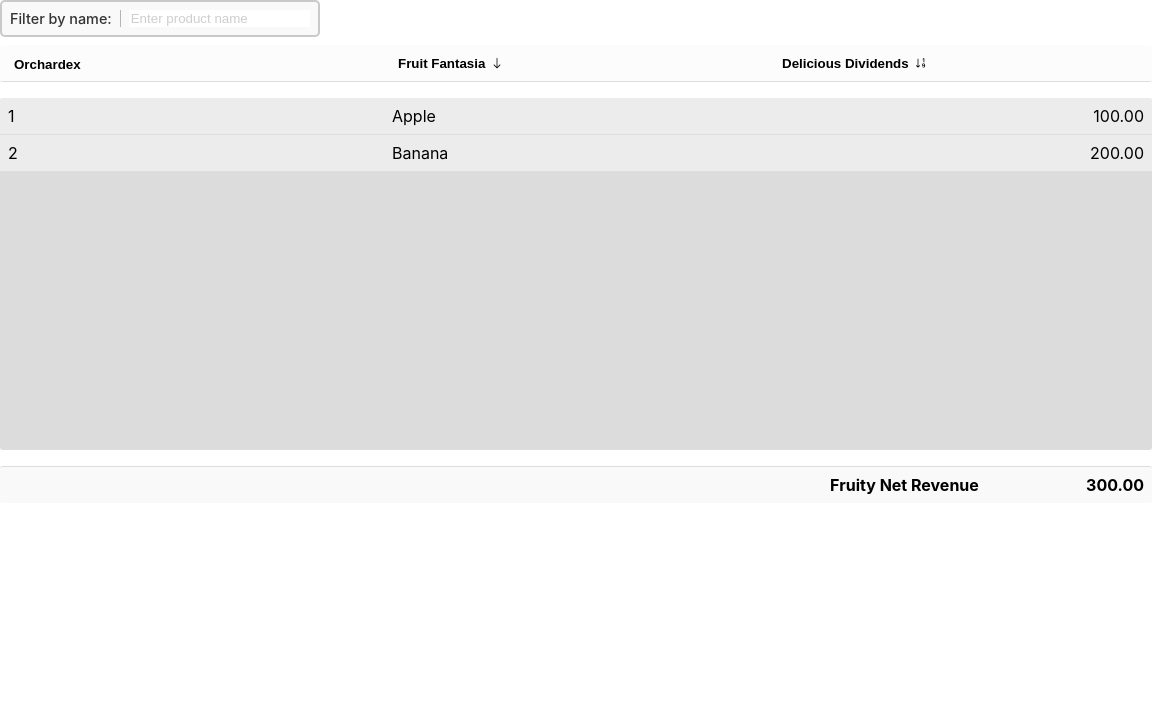
Test case: TableComp › filters data correctly
Type "Apple" into the field labelled "Filter by name:" at x=219, y=18, box [129,10,310,27]
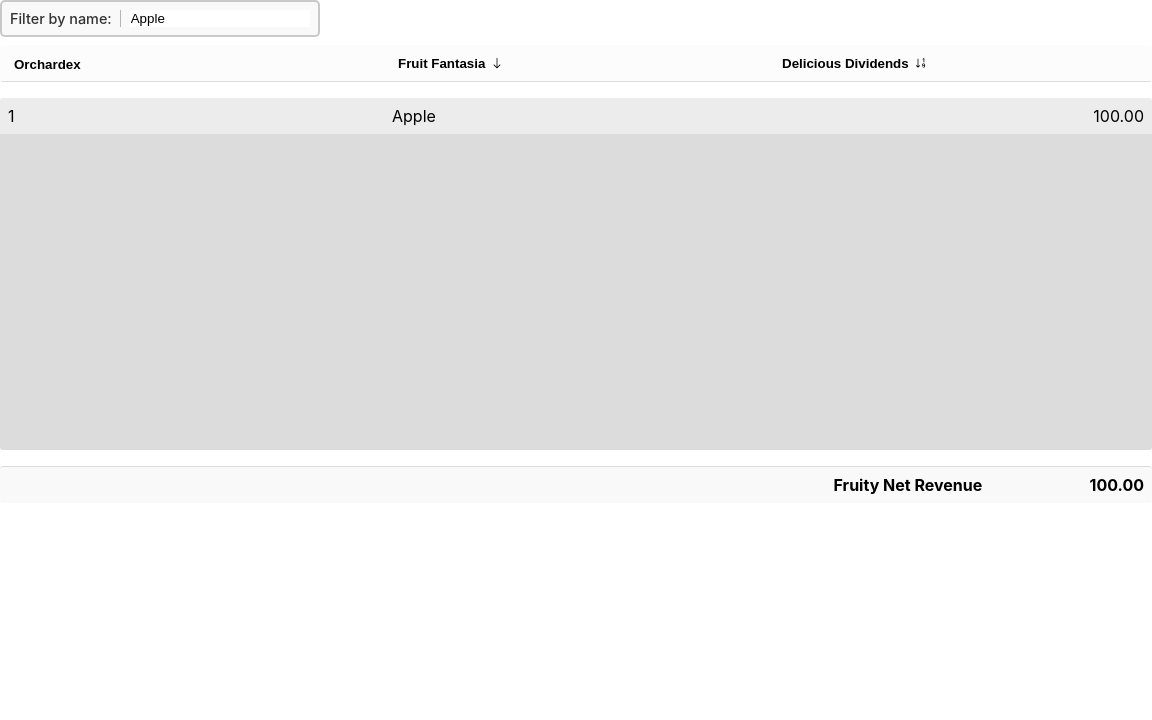
Expected: the text "Apple" is shown, [384,98,768,134]
Now the text "Banana" is gone
